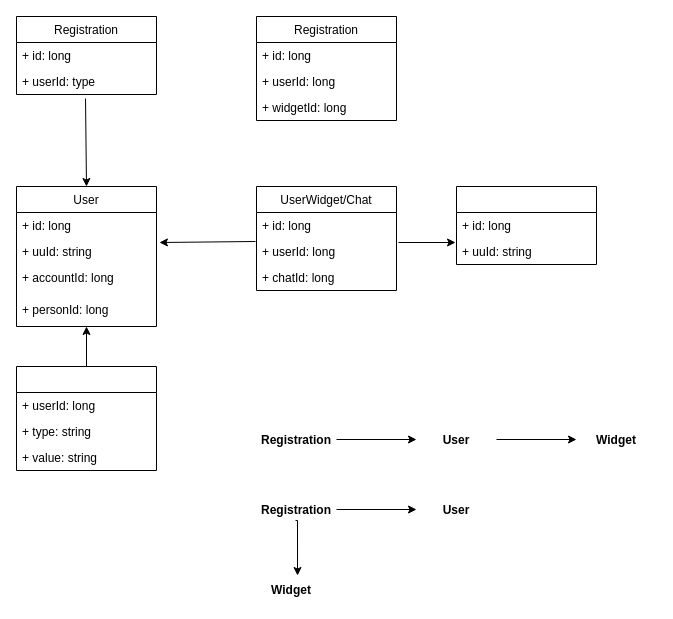
Image size: 673x619. Some labels were removed from this diagram. Here are the shapes that lost their labels. From the top down, the box of each, then its label:
(456, 186, 596, 264): Widget/Chat
(16, 366, 156, 470): UserIdentifier
